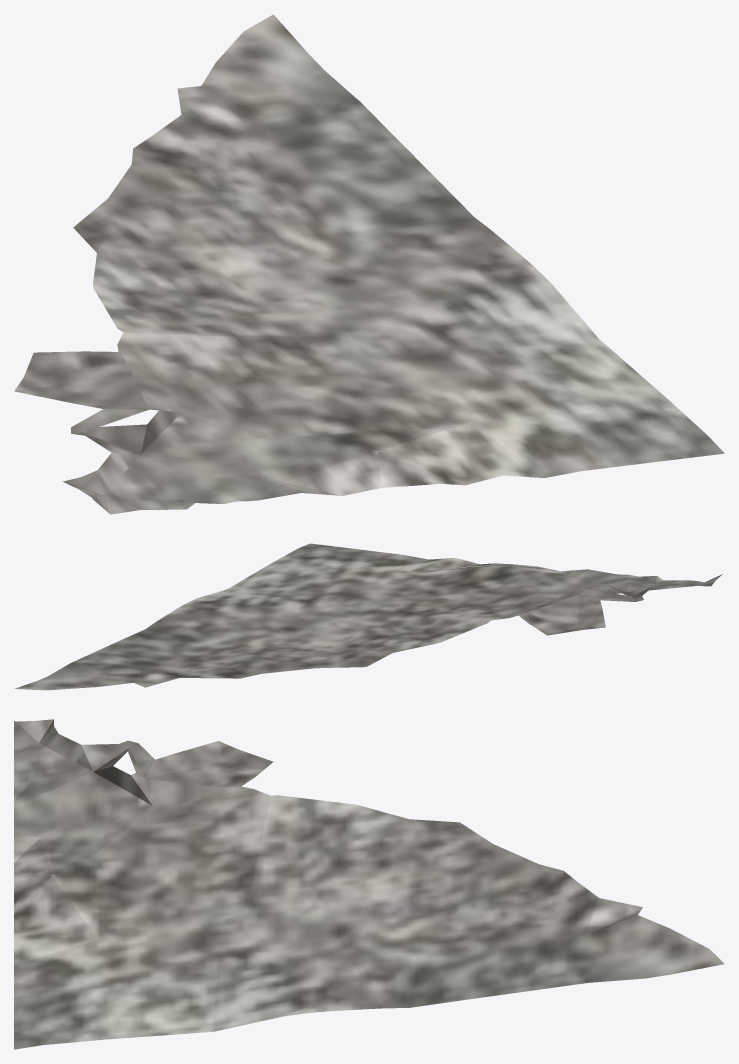
3 views of the same model, one above another, from view 1: azimuth 30°, elevation 25°; view 2: azimuth 150°, elevation 25°; view 3: azimuth 270°, elevation 25° (orthographic). The views are drawn at different scales.
Bounding box in the file's own units: 0.3023 × 0.0493 × 0.371.
Materials: 1 (1 with a texture image).
